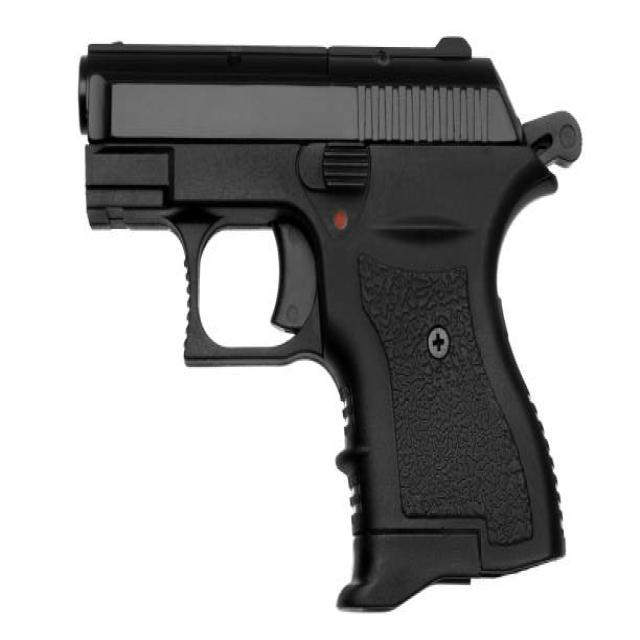pistol: (69, 24, 590, 617)
